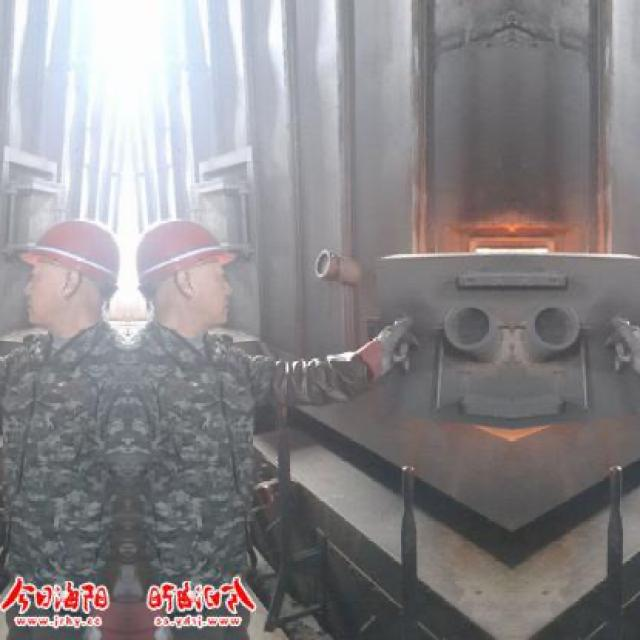helmet: (128, 195, 247, 351), (6, 195, 125, 351)
